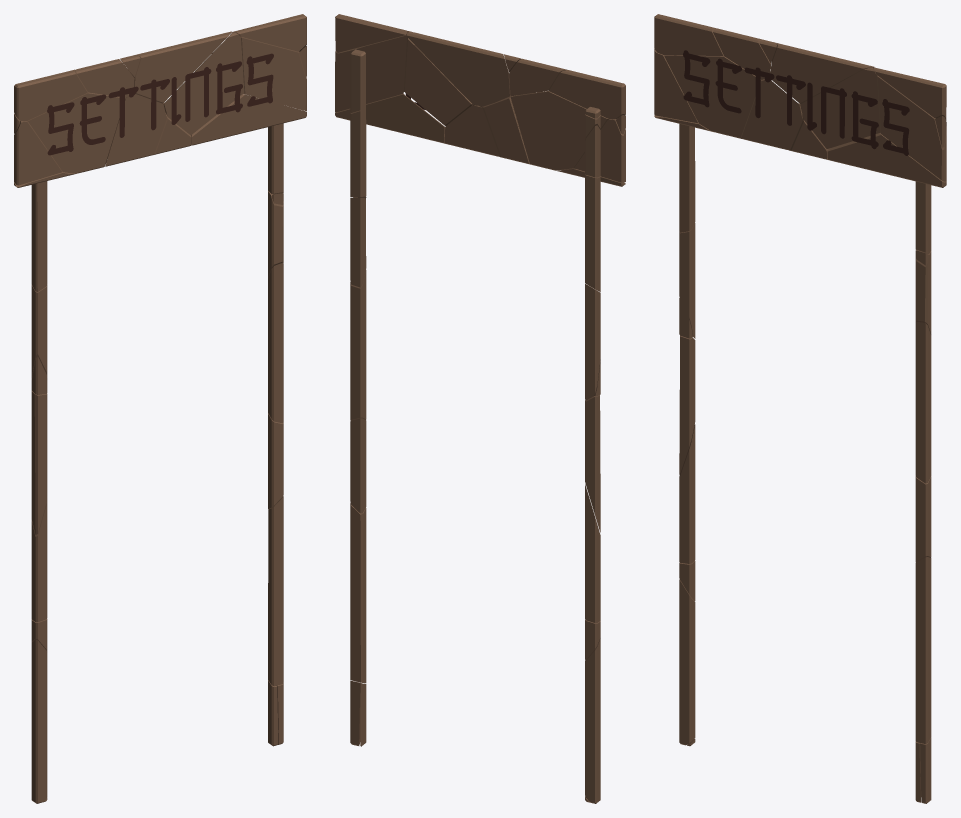
File: bsign-settings.fbx
The picture shows the model from 3 angles, left to right: view 1: azimuth 30°, elevation 25°; view 2: azimuth 150°, elevation 25°; view 3: azimuth 330°, elevation 25°; orthographic projection.
Parts seen in each view (by area): view 1: sign_settings02.001_cell.039, sign_settings02.009, sign_settings02.001_cell.018, sign_settings02.001_cell.026, sign_settings02.005, sign_settings02.001_cell.023, sign_settings02.001_cell.017, sign_settings02.001_cell.012, sign_settings02.001_cell.024, sign_settings02.001_cell.015, sign_settings02.001_cell.013, sign_settings02.001_cell.034 (+9 smaller); view 2: sign_settings02.001_cell.039, sign_settings02.001_cell.018, sign_settings02.001_cell.023, sign_settings02.001_cell.026, sign_settings02.009, sign_settings02.001_cell.017, sign_settings02.001_cell.015, sign_settings02.001_cell.012, sign_settings02.001_cell.024, sign_settings02.001_cell.036, sign_settings02.001_cell.034, sign_settings02.001_cell.037 (+9 smaller); view 3: sign_settings02.001_cell.039, sign_settings02.009, sign_settings02.001_cell.018, sign_settings02.001_cell.026, sign_settings02.001_cell.017, sign_settings02.005, sign_settings02.001_cell.023, sign_settings02.001_cell.024, sign_settings02.001_cell.012, sign_settings02.001_cell.015, sign_settings02.001_cell.034, sign_settings02.001_cell.037 (+9 smaller).
Boxes of the visible parts, box(x1,y1,x2,y2) form: sign_settings02.001_cell.039: box(28, 86, 138, 173); sign_settings02.009: box(163, 32, 244, 135); sign_settings02.001_cell.018: box(230, 33, 306, 110); sign_settings02.001_cell.026: box(191, 94, 306, 194); sign_settings02.005: box(105, 79, 169, 166); sign_settings02.001_cell.023: box(128, 31, 231, 103); sign_settings02.001_cell.017: box(268, 496, 283, 686); sign_settings02.001_cell.012: box(31, 639, 47, 803); sign_settings02.001_cell.024: box(268, 262, 283, 423); sign_settings02.001_cell.015: box(14, 69, 87, 121); sign_settings02.001_cell.013: box(31, 391, 47, 534); sign_settings02.001_cell.034: box(14, 172, 77, 291); sign_settings02.001_cell.039: box(510, 91, 608, 170); sign_settings02.001_cell.018: box(335, 35, 406, 112); sign_settings02.001_cell.023: box(406, 32, 510, 106); sign_settings02.001_cell.026: box(335, 93, 445, 196); sign_settings02.009: box(404, 31, 476, 125); sign_settings02.001_cell.017: box(350, 503, 366, 683); sign_settings02.001_cell.015: box(549, 69, 625, 119); sign_settings02.001_cell.012: box(585, 638, 600, 803); sign_settings02.001_cell.024: box(350, 270, 366, 420); sign_settings02.001_cell.036: box(574, 119, 625, 182); sign_settings02.001_cell.034: box(557, 169, 625, 291); sign_settings02.001_cell.037: box(585, 484, 600, 622); sign_settings02.001_cell.039: box(664, 50, 774, 138); sign_settings02.009: box(800, 67, 880, 149); sign_settings02.001_cell.018: box(875, 72, 946, 181); sign_settings02.001_cell.026: box(827, 133, 946, 254); sign_settings02.001_cell.017: box(915, 557, 931, 743); sign_settings02.005: box(741, 75, 805, 149); sign_settings02.001_cell.023: box(770, 43, 874, 103); sign_settings02.001_cell.024: box(915, 321, 931, 483); sign_settings02.001_cell.012: box(679, 579, 695, 745); sign_settings02.001_cell.015: box(654, 14, 723, 56); sign_settings02.001_cell.034: box(654, 115, 714, 232); sign_settings02.001_cell.037: box(679, 424, 695, 563).
Size of the model in its own units: 92.94 by 222 by 4.87.
